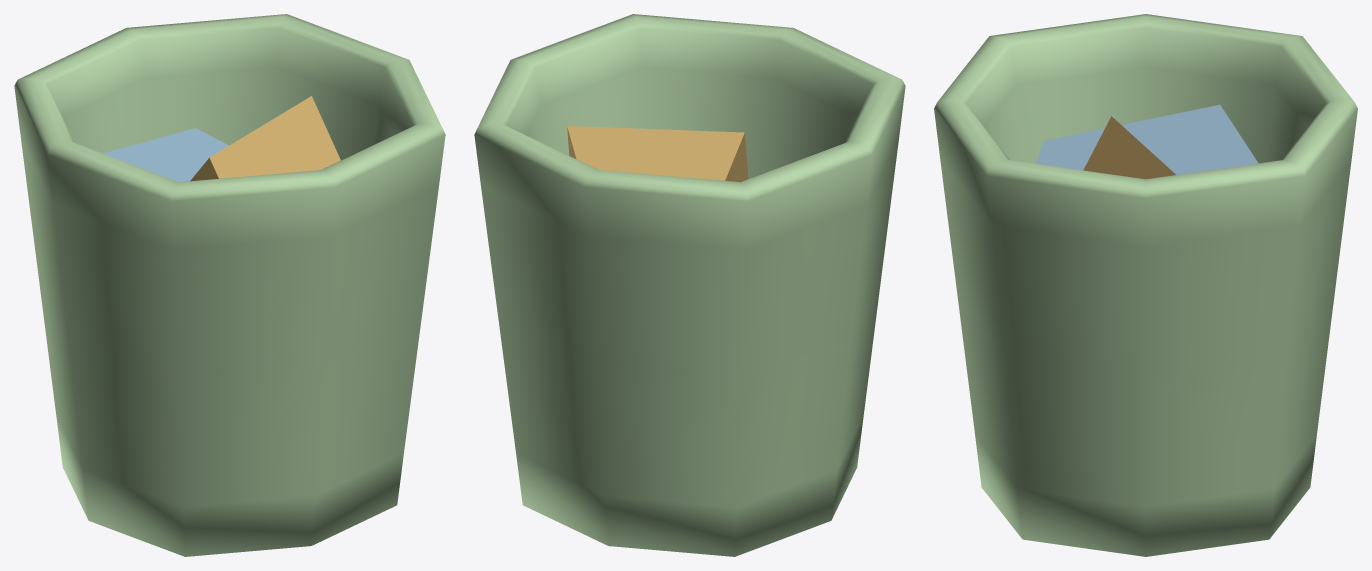
Rendered from garbage-can-transformed.glb.
3 renders of one model, left to right at view 1: azimuth 30°, elevation 25°; view 2: azimuth 150°, elevation 25°; view 3: azimuth 270°, elevation 25°, orthographic.
Parts seen in each view (by area): view 1: Cube 2.001, Pyramid, Pentagon; view 2: Cube 2.001, Pyramid; view 3: Cube 2.001, Pentagon, Pyramid.
Part boxes in pixels (box(x1,y1,x2,y2)): Cube 2.001: box(14, 14, 445, 556); Pyramid: box(190, 96, 340, 181); Pentagon: box(103, 128, 228, 182); Cube 2.001: box(474, 14, 905, 556); Pyramid: box(567, 126, 748, 182); Cube 2.001: box(934, 14, 1357, 556); Pentagon: box(1035, 104, 1258, 174); Pyramid: box(1083, 116, 1175, 179).
Size of the model in its own units: 0.4216 by 0.4371 by 0.4216.
